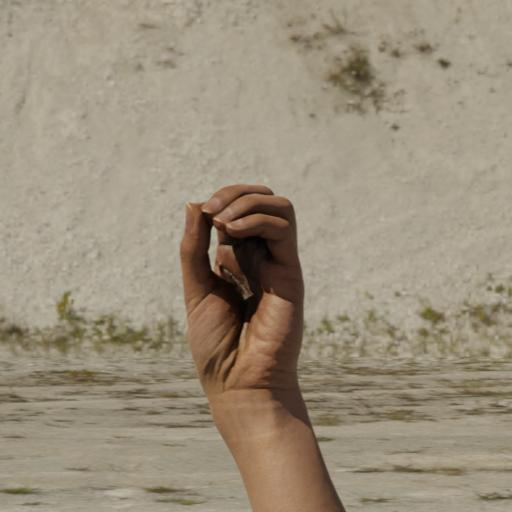O: (169, 174, 354, 458)
